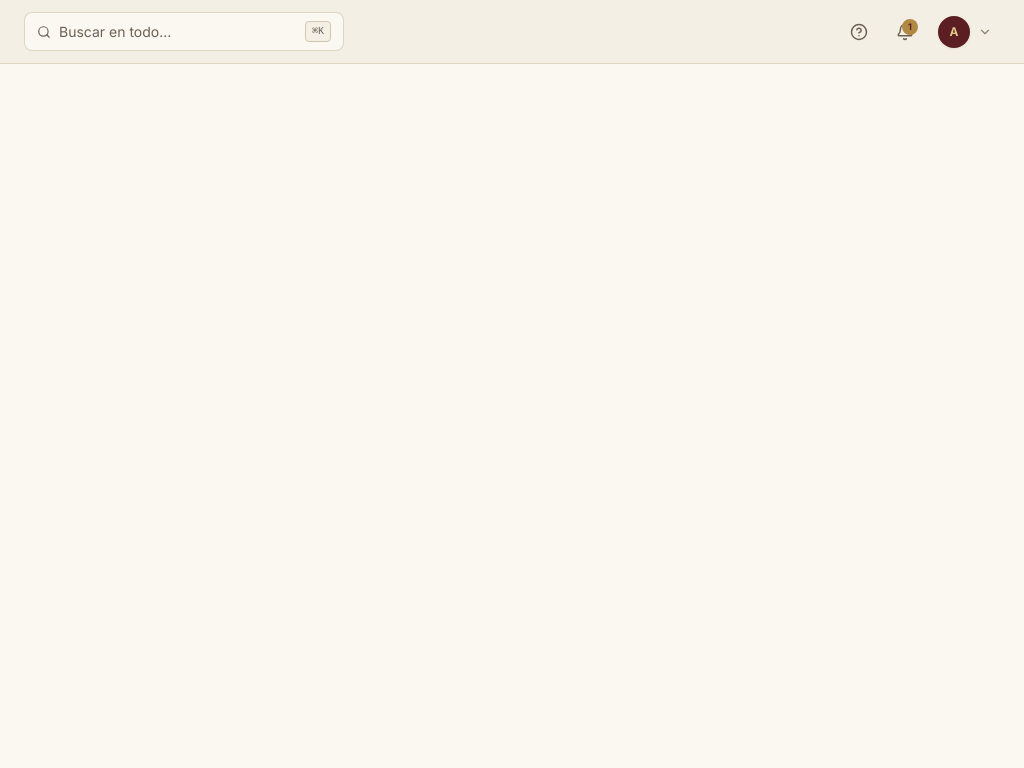
Test case: shell notification panel and account menu › Spanish session replaces notification and account chrome
Click the button named "Notificaciones, 1 sin leer".
click(905, 32)  # box [888, 14, 922, 48]
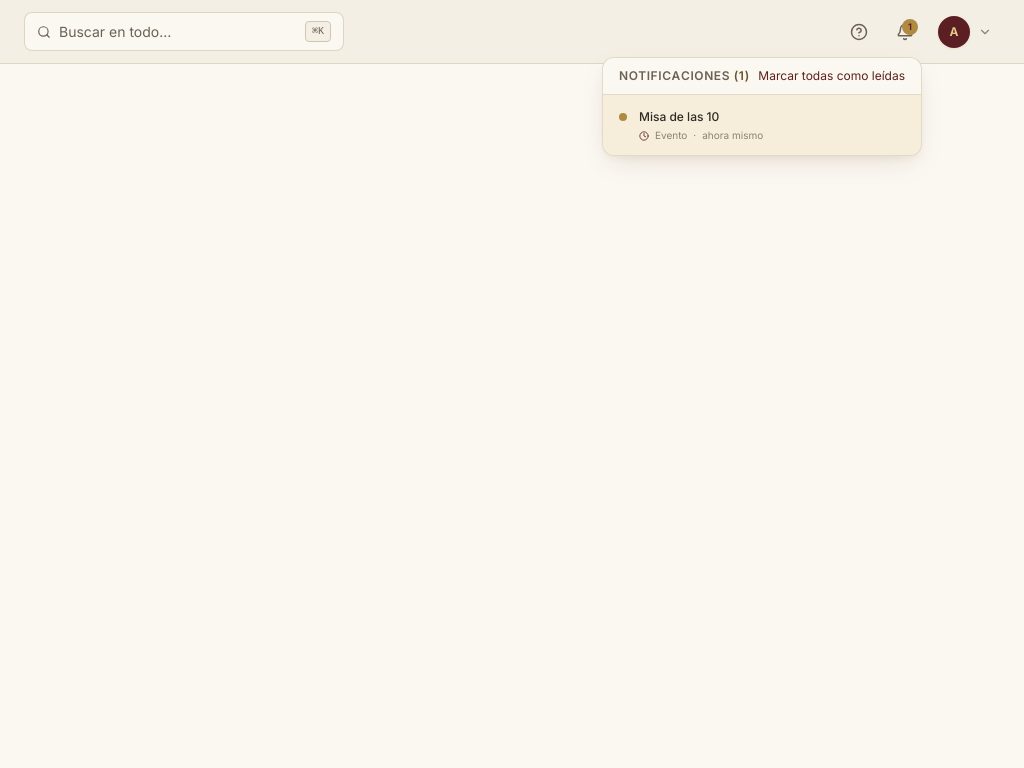
Result: the button "Marcar todas como leídas" is shown at [758, 68, 905, 84]
Result: the text "Evento" is shown at [655, 128, 687, 143]
Result: the text "ahora mismo" is shown at [702, 128, 763, 143]
Click the button "A".
click(967, 32)  # box [934, 12, 1000, 52]
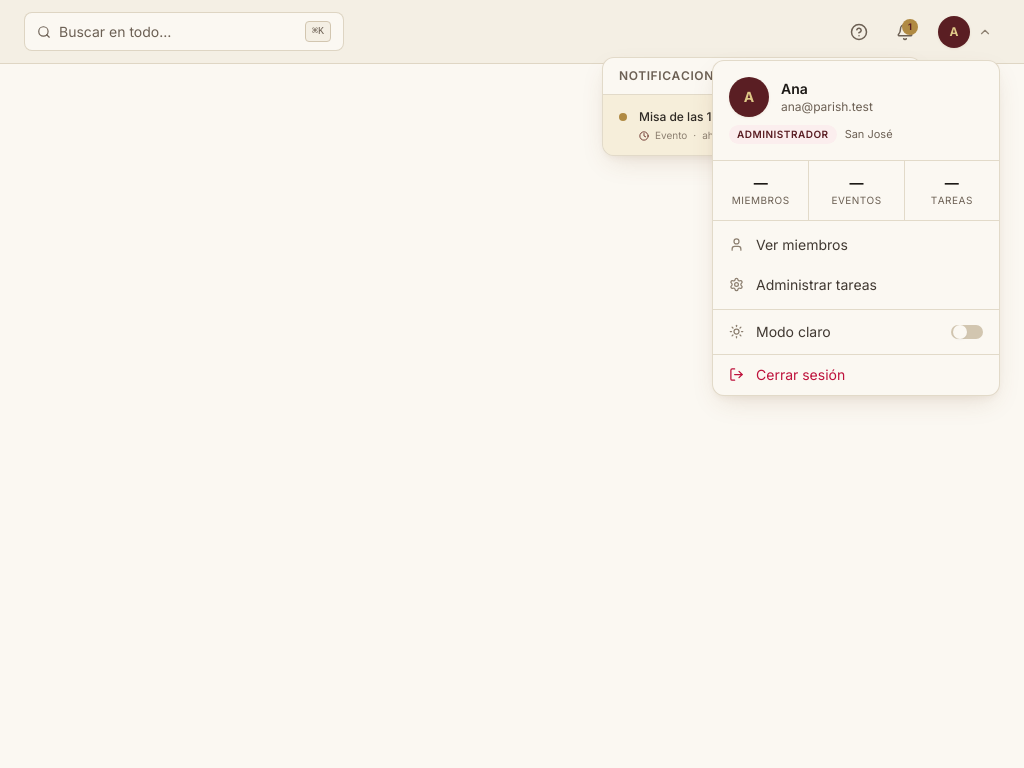
Result: the text "Administrador" is shown at [729, 124, 837, 144]
Result: the button "Ver miembros" is shown at [713, 224, 999, 264]
Result: the button "Administrar tareas" is shown at [713, 264, 999, 304]
Click the button with aria-label "Abrir la búsqueda".
click(115, 31)  # box [24, 12, 344, 51]
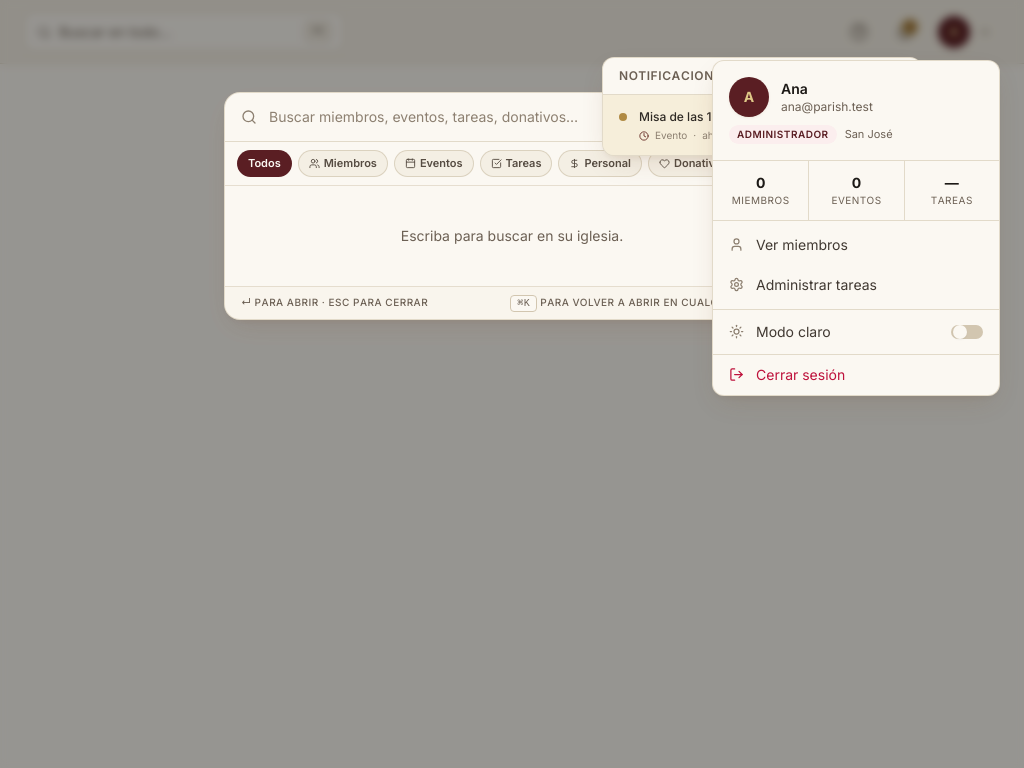
Result: the dialog "buscar" is shown at [224, 92, 800, 320]
Result: the text "Escriba para buscar en su iglesia." is shown at [401, 227, 623, 244]
